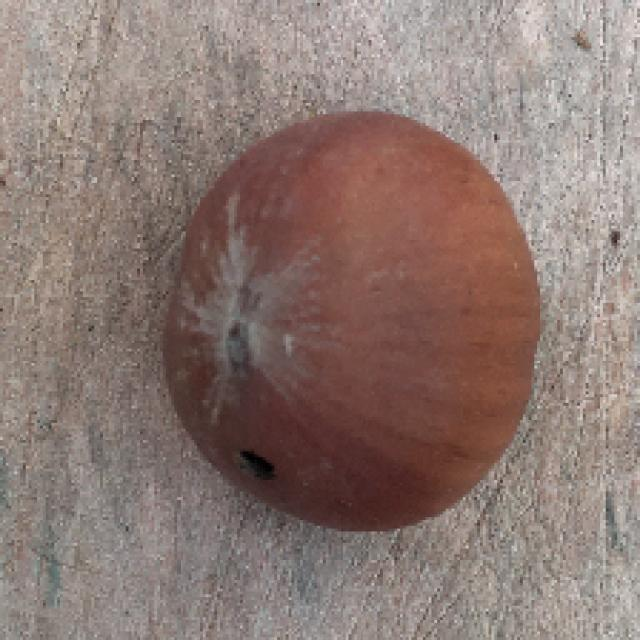damagedHazelnut: (162, 103, 546, 540)
